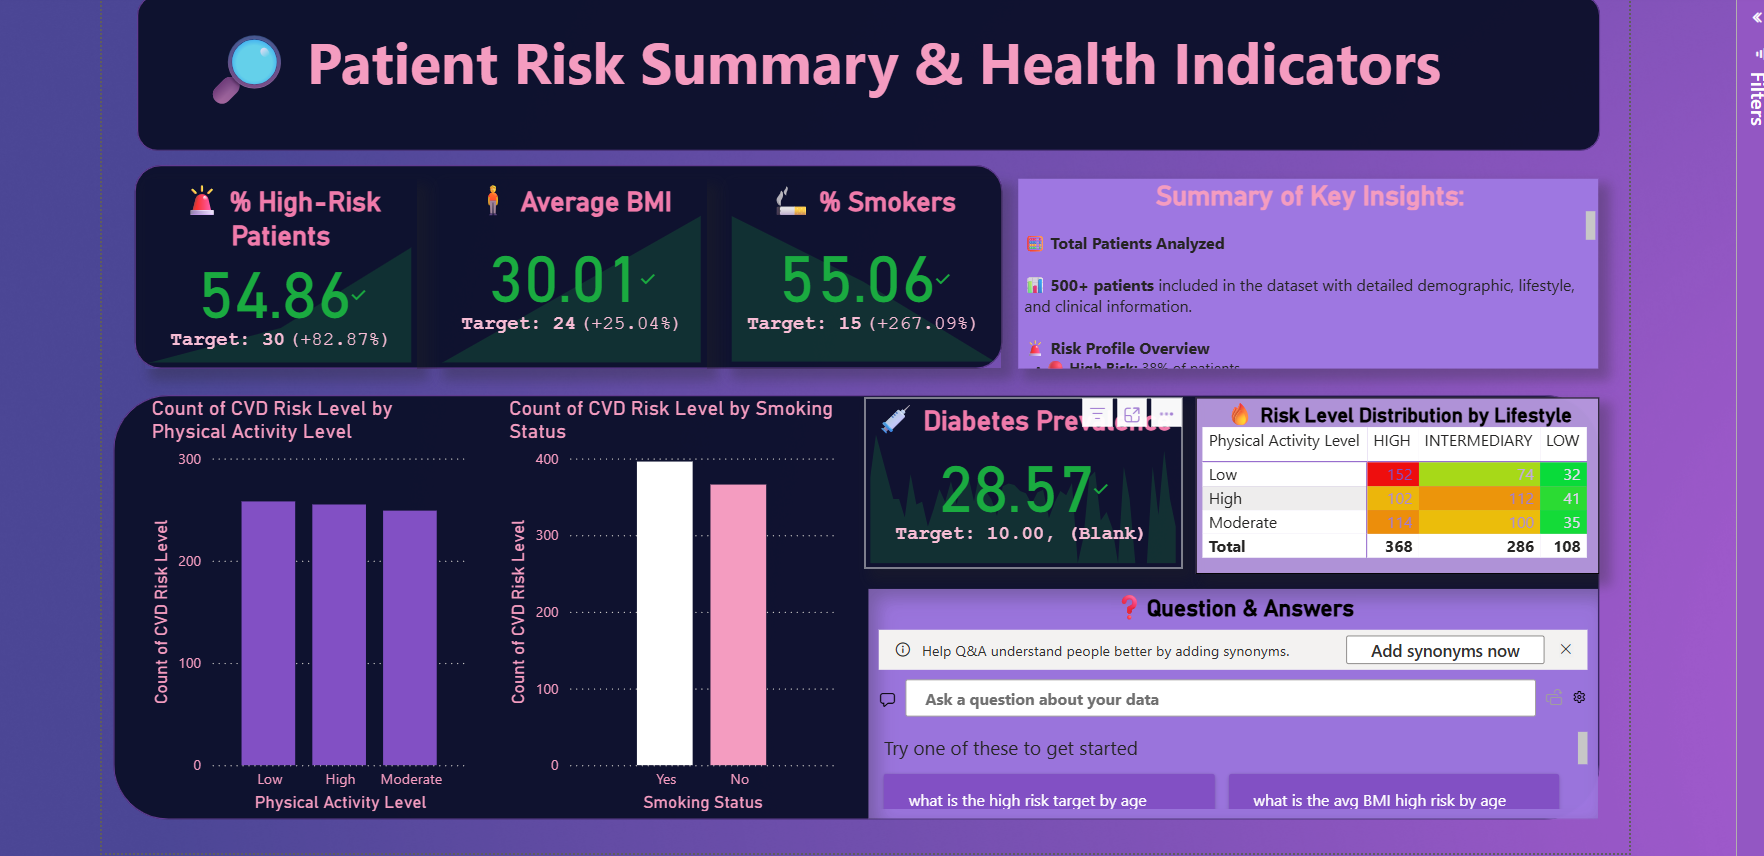

Layout of this report page (visuals, bound fields, positions):
{"tool":"powerbi","page":{"name":"summary ","canvas":[1280,720],"ordinal":4},"visuals":[{"type":"shape","box":[26.1,143.1,1230.3,170.4],"z":0},{"type":"shape","box":[9.7,335.3,1246.6,356.2],"z":1000},{"type":"kpi","title":"🧍 Average BMI","fields":{"Indicator":["CVD Dataset.Avg_BMI_HighRisk"],"TrendLine":["CVD Dataset.Sex"],"Goal":["CVD Dataset.BMI_Target"]},"box":[281.1,154.3,226.4,159.2],"z":2000},{"type":"kpi","title":"🚨 % High-Risk Patients","fields":{"Goal":["CVD Dataset.HighRisk_Target"],"Indicator":["CVD Dataset.HighRisk_Pct"],"TrendLine":["CVD Dataset.Age_Category"]},"box":[36.1,154.3,228.9,159.2],"z":3000},{"type":"kpi","title":"🚬 % Smokers","fields":{"Indicator":["CVD Dataset.Smokers_HighRisk"],"Goal":["CVD Dataset.Smoker_Target"],"TrendLine":["CVD Dataset.Age_Category"]},"box":[523.1,154.4,231,158.6],"z":4000},{"type":"shape","box":[29.2,0,1227.1,130.8],"z":5000},{"type":"kpi","title":"\t💉 Diabetes Prevalence","fields":{"Indicator":["CVD Dataset.Diabetes_Pct"],"Goal":["CVD Dataset.Diabetes_Target","CVD Dataset.HighRisk_Pct"],"TrendLine":["CVD Dataset.Age"]},"box":[639.4,337.1,266.2,144.3],"z":6000},{"type":"textbox","box":[54.3,18.1,1172.9,101.6],"z":7000},{"type":"columnChart","fields":{"Y":["CountNonNull(CVD Dataset.CVD Risk Level)"],"Category":["CVD Dataset.Smoking Status"]},"box":[336.7,336.7,283.8,353.4],"z":8000},{"type":"clusteredColumnChart","fields":{"Y":["CountNonNull(CVD Dataset.CVD Risk Level)"],"Category":["CVD Dataset.Physical Activity Level"]},"box":[36.2,336.7,275.5,353.4],"z":9000},{"type":"pivotTable","title":"🔥 Risk Level Distribution by Lifestyle","fields":{"Columns":["CVD Dataset.CVD Risk Level"],"Values":["CountNonNull(CVD Dataset.Patiend_Id)"],"Rows":["CVD Dataset.Physical Activity Level"]},"box":[916.8,337.1,338.4,148],"z":10000},{"type":"qnaVisual","title":"❓Question & Answers","box":[643.1,497.6,612,192.8],"z":11000},{"type":"textbox","title":"Summary of Key Insights:","box":[768.8,149.3,475.2,159.2],"z":12000},{"type":"actionButton","box":[69.7,8.7,104.5,112],"z":13000}]}

Visuals, with their boxes on the page's 1280x720 design canvas (x1, y1, x2, y2). These are canvas units, not pixel positions in the 1764x856 screenshot, which may show the page scaled, cropped or inside an application window:
shape: l=26, t=143, r=1256, b=314
shape: l=10, t=335, r=1256, b=692
"🧍 Average BMI" kpi: l=281, t=154, r=508, b=314
"🚨 % High-Risk Patients" kpi: l=36, t=154, r=265, b=314
"🚬 % Smokers" kpi: l=523, t=154, r=754, b=313
shape: l=29, t=0, r=1256, b=131
"	💉 Diabetes Prevalence" kpi: l=639, t=337, r=906, b=481
textbox: l=54, t=18, r=1227, b=120
columnChart - CountNonNull(CVD Dataset.CVD Risk Level) x CVD Dataset.Smoking Status: l=337, t=337, r=620, b=690
clusteredColumnChart - CountNonNull(CVD Dataset.CVD Risk Level) x CVD Dataset.Physical Activity Level: l=36, t=337, r=312, b=690
"🔥 Risk Level Distribution by Lifestyle" pivotTable: l=917, t=337, r=1255, b=485
"❓Question & Answers" qnaVisual: l=643, t=498, r=1255, b=690
"Summary of Key Insights:" textbox: l=769, t=149, r=1244, b=308
actionButton: l=70, t=9, r=174, b=121
